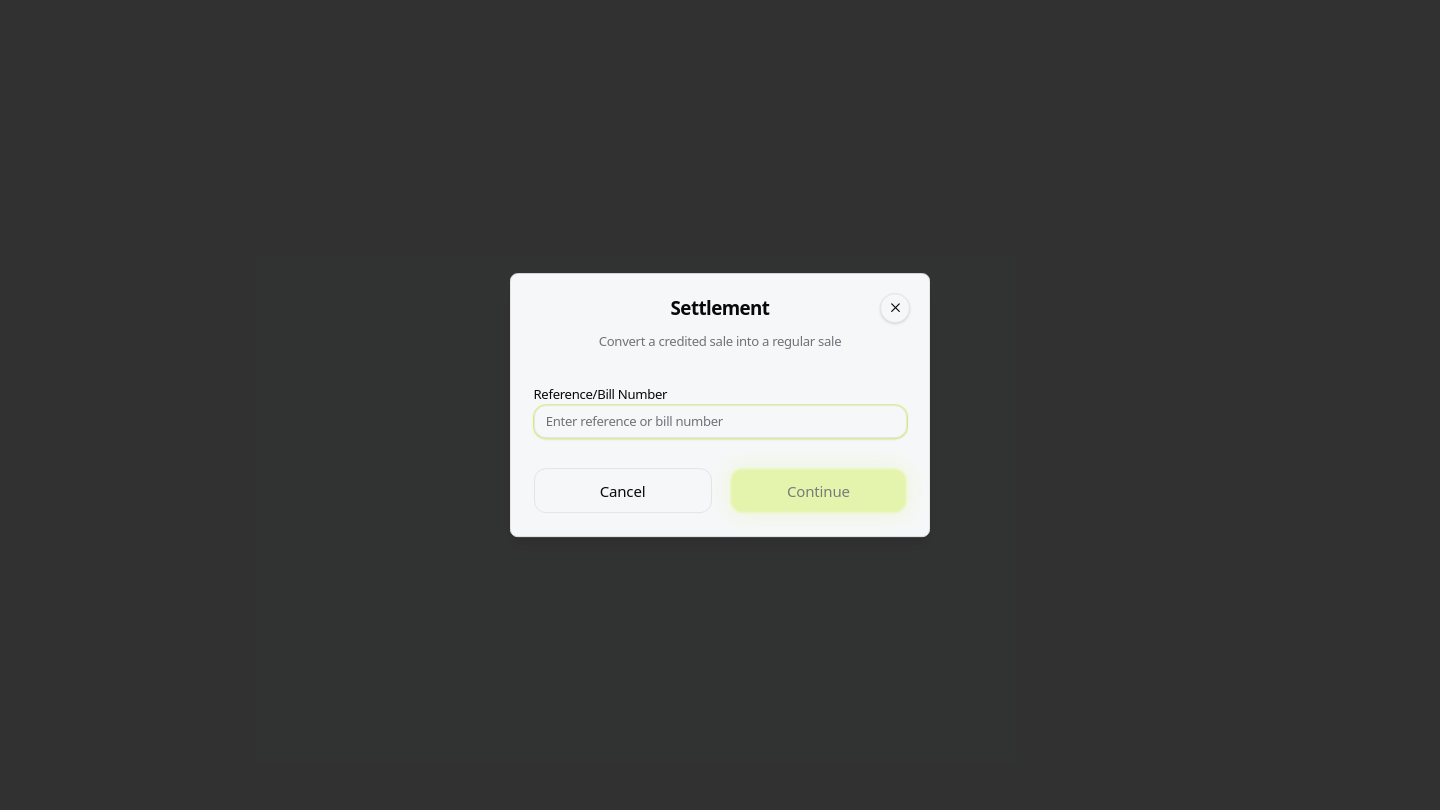
Scenario: SettlementDialog - settlement payment options › reveals the POS mobile recipients when Mobile Pay is selected
The width and height of the screenshot is (1440, 810).
Step 1. Type "A011230926" into the field with placeholder "Enter reference or bill number" → (720, 422), box [534, 405, 906, 438]
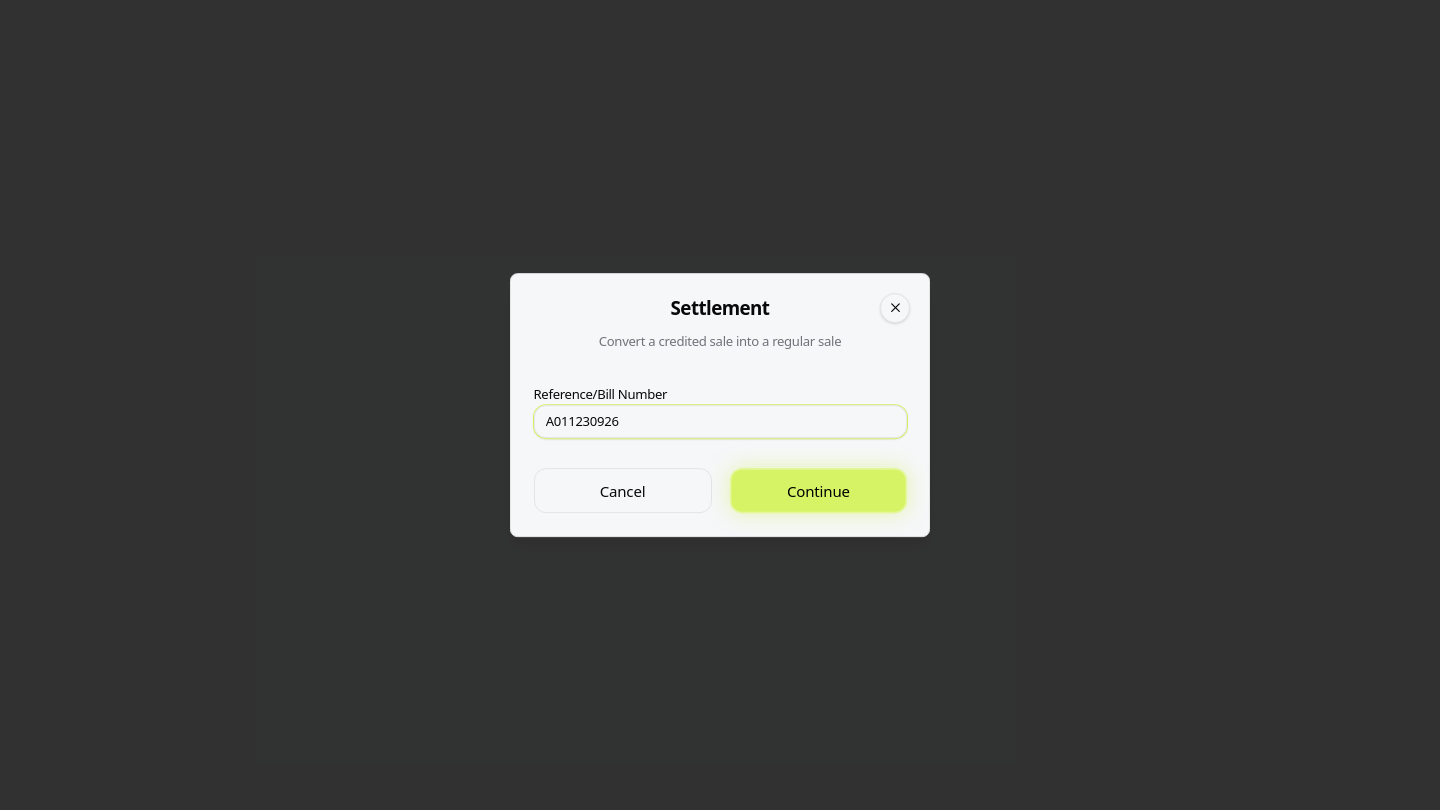
Step 2. Click the button "Continue" → click(818, 491), box [730, 468, 906, 513]
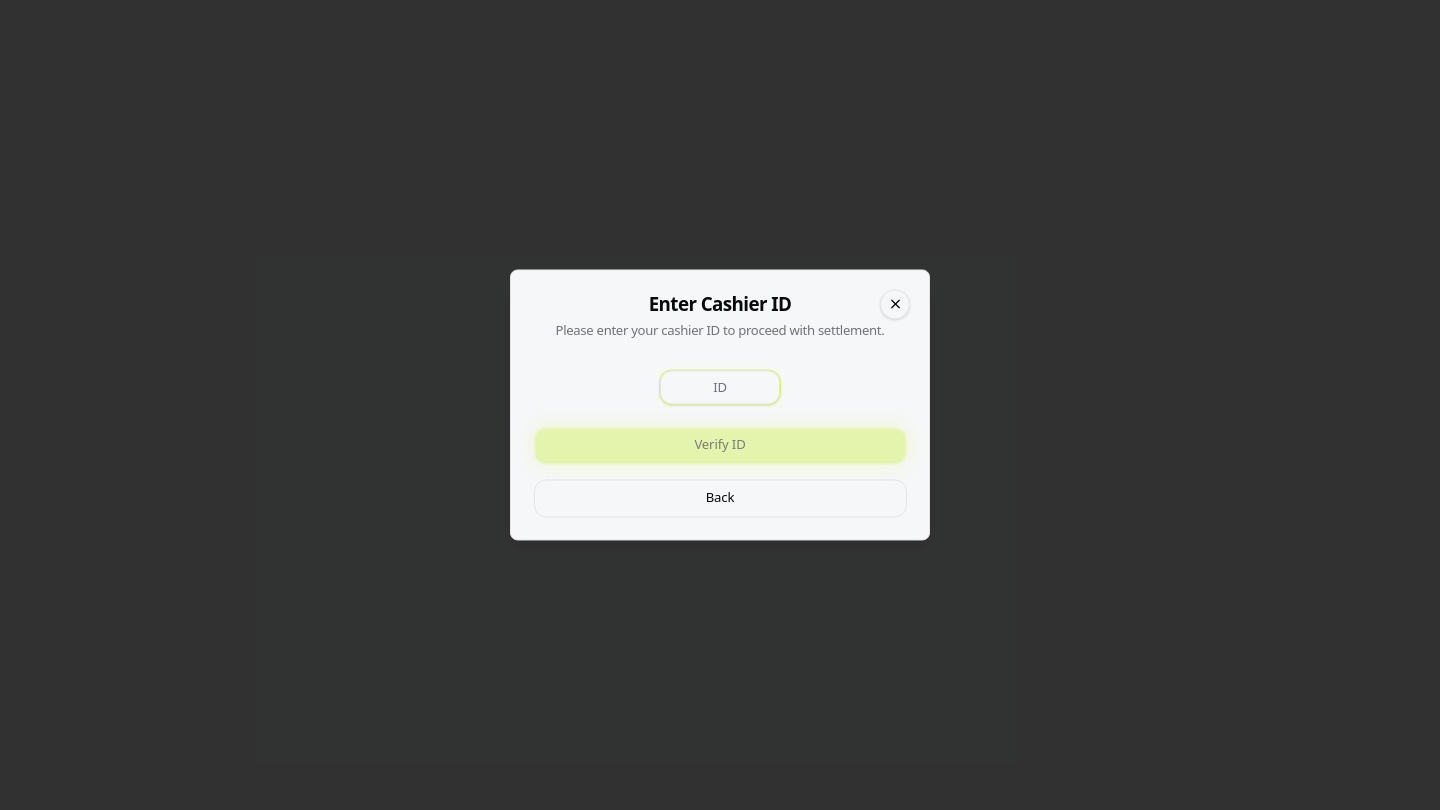
Step 3. Type "0001" into the field with placeholder "ID" → (720, 388), box [660, 371, 780, 405]
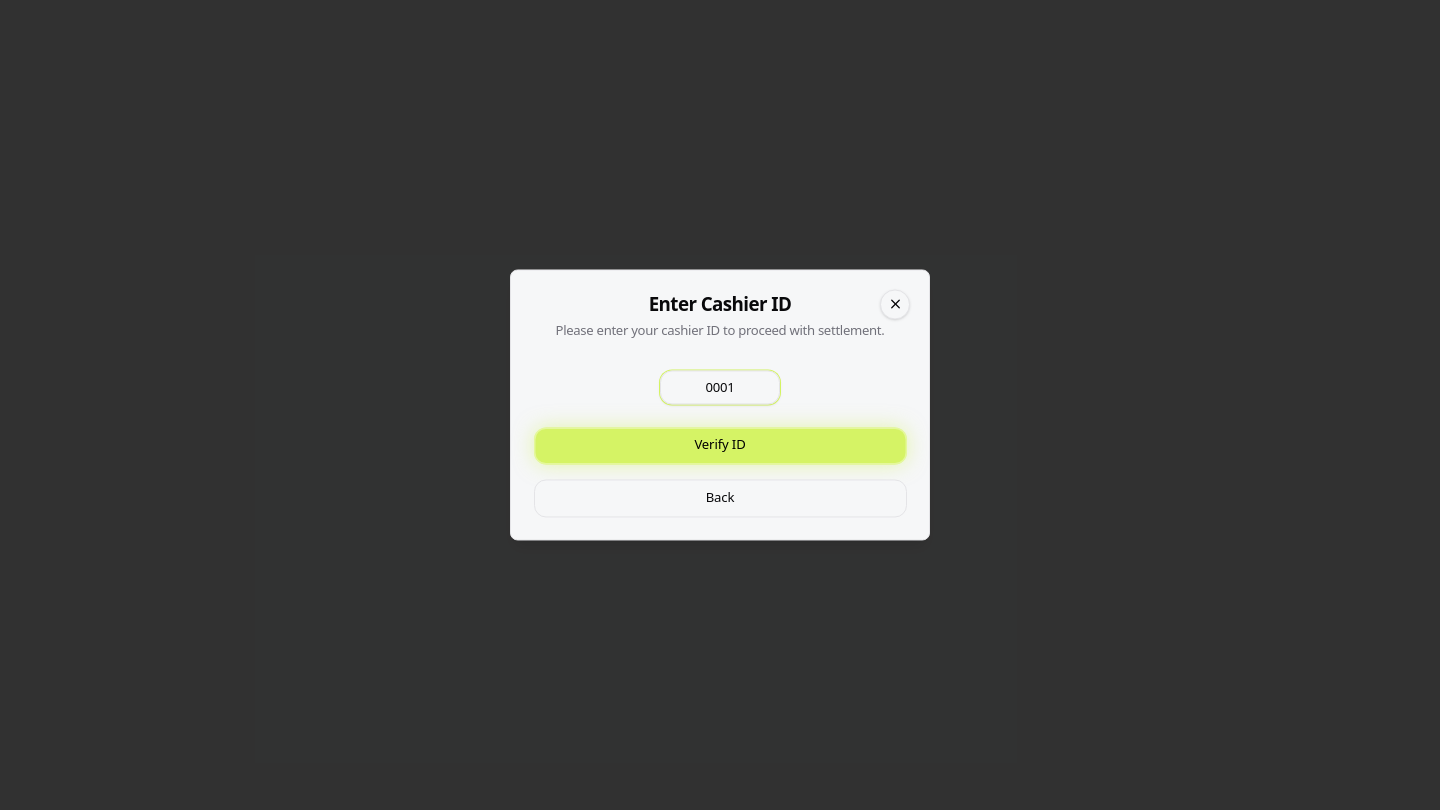
Step 4. Click the button "Verify ID" → click(720, 446), box [534, 427, 906, 464]
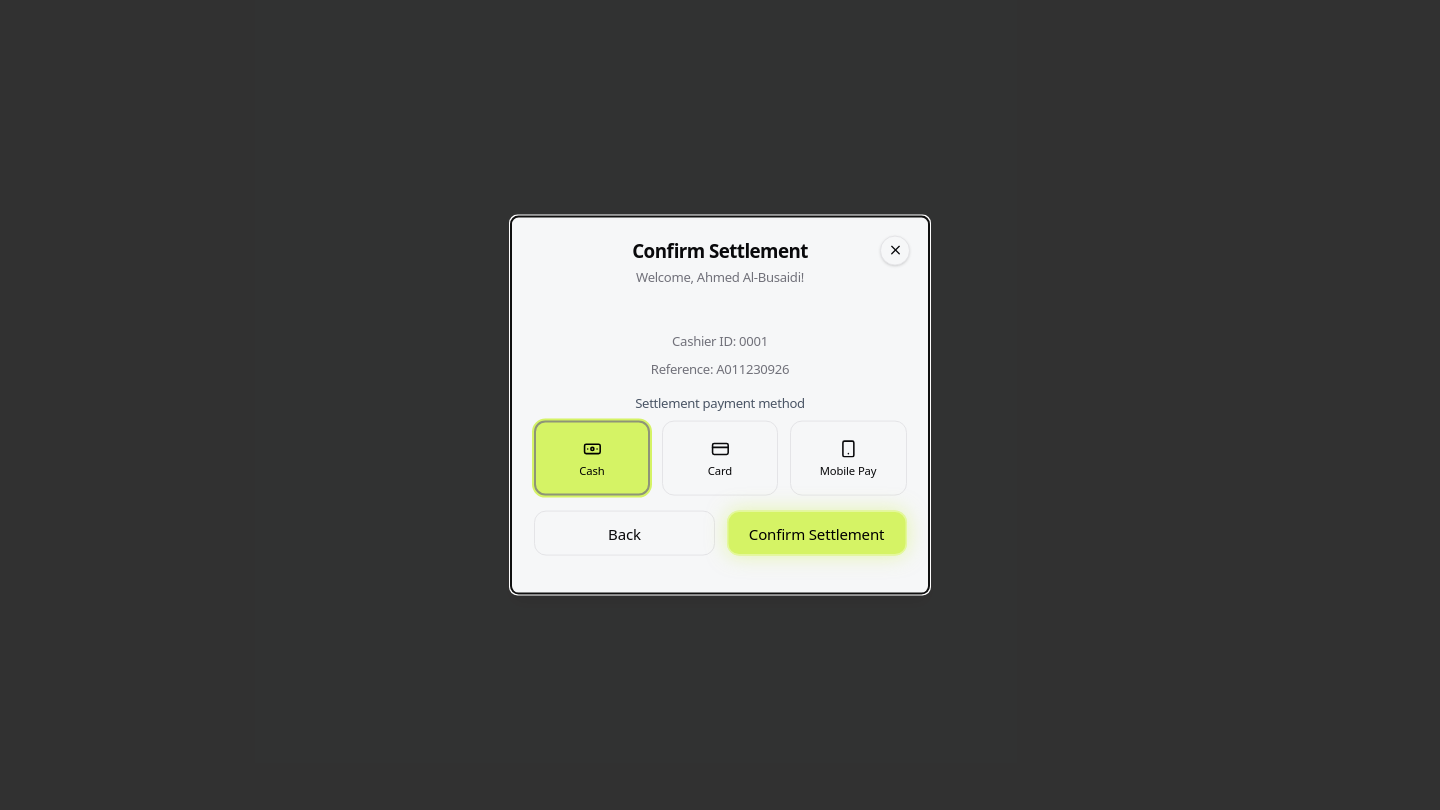
Check: the button "Confirm Settlement" is shown, box [727, 511, 906, 556]
Step 5. Click the radio button labelled "Mobile Pay" → click(848, 458), box [790, 421, 906, 496]
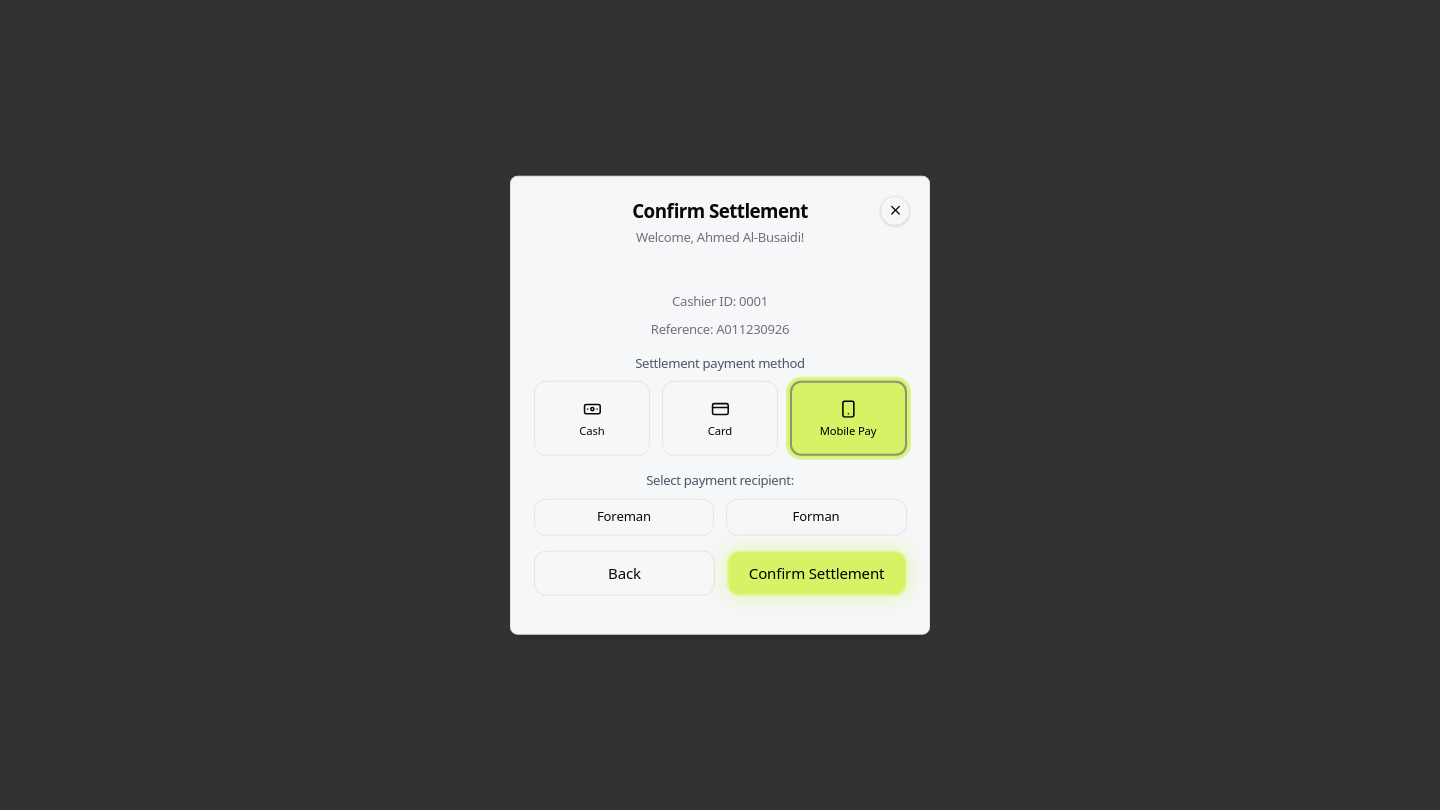
Check: the button "Foreman" is shown, box [534, 498, 714, 536]
Check: the button "Forman" is shown, box [726, 498, 906, 536]
